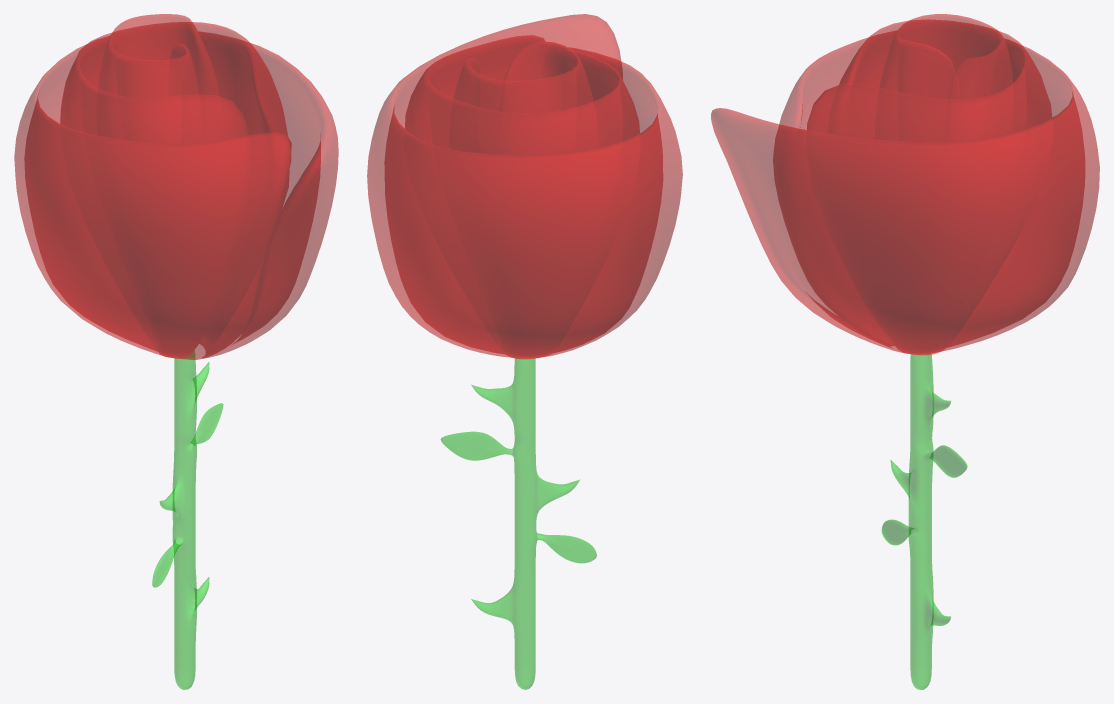
File: Rose.fbx
3 renders of one model, left to right at view 1: azimuth 30°, elevation 25°; view 2: azimuth 150°, elevation 25°; view 3: azimuth 270°, elevation 25°, orthographic.
Parts seen in each view (by area): view 1: Cube.001; view 2: Cube.001; view 3: Cube.001.
Boxes of the visible parts, x1=… form: Cube.001: x1=14, y1=14, x2=338, y2=689; Cube.001: x1=367, y1=14, x2=682, y2=689; Cube.001: x1=711, y1=14, x2=1099, y2=689.
Bounding box in the file's own units: 7.68 × 17.51 × 9.55.
